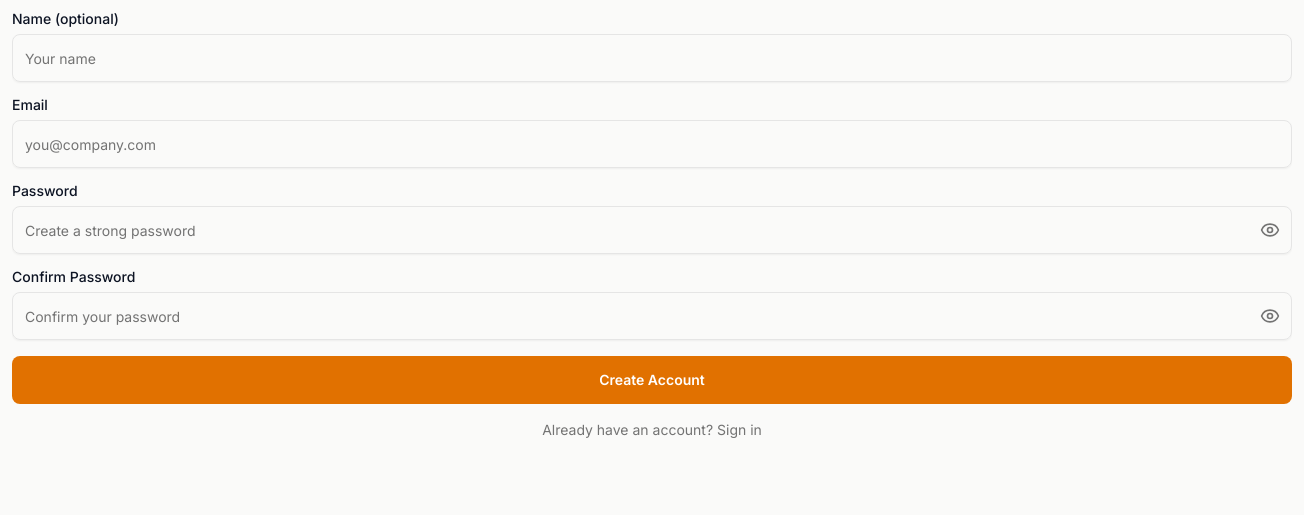
Test: RegisterForm › Inline validation › should show error for password without number on blur
Type "PasswordOnly" into the password field labelled "Password".
click(652, 230); type("PasswordOnly")  # box [12,206,1292,254]
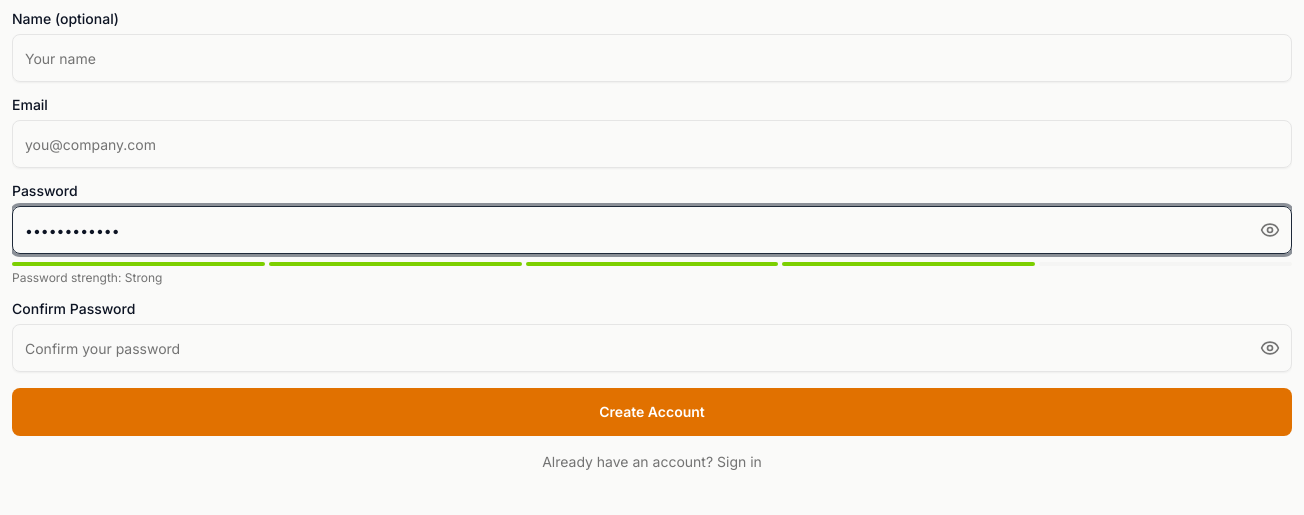
Press Tab
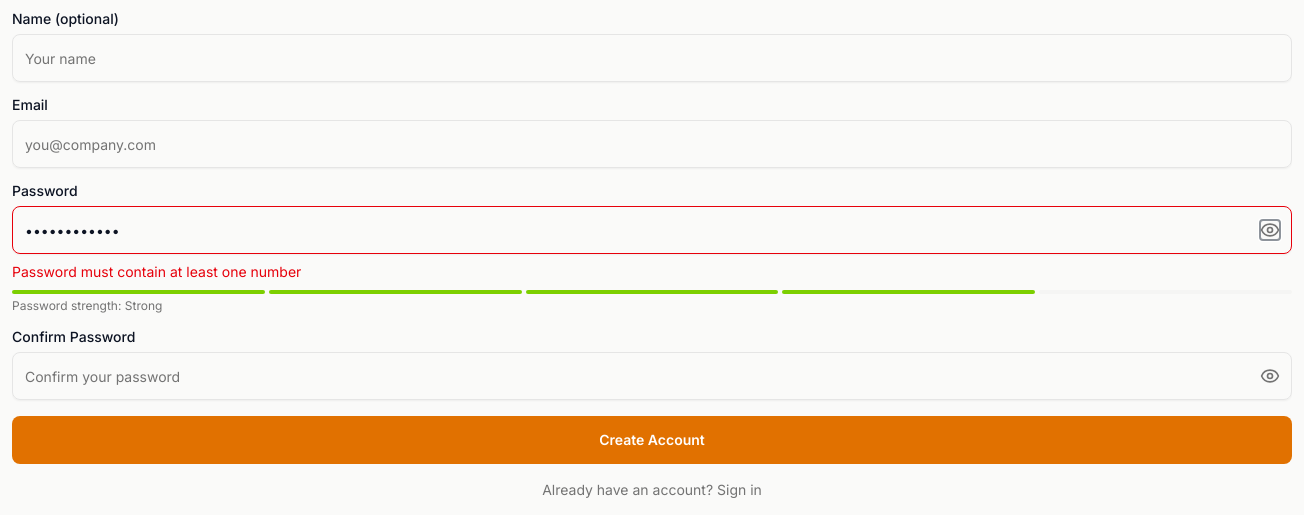
expect the text "Password must contain at least one number" is shown: met, box [12,263,301,280]
